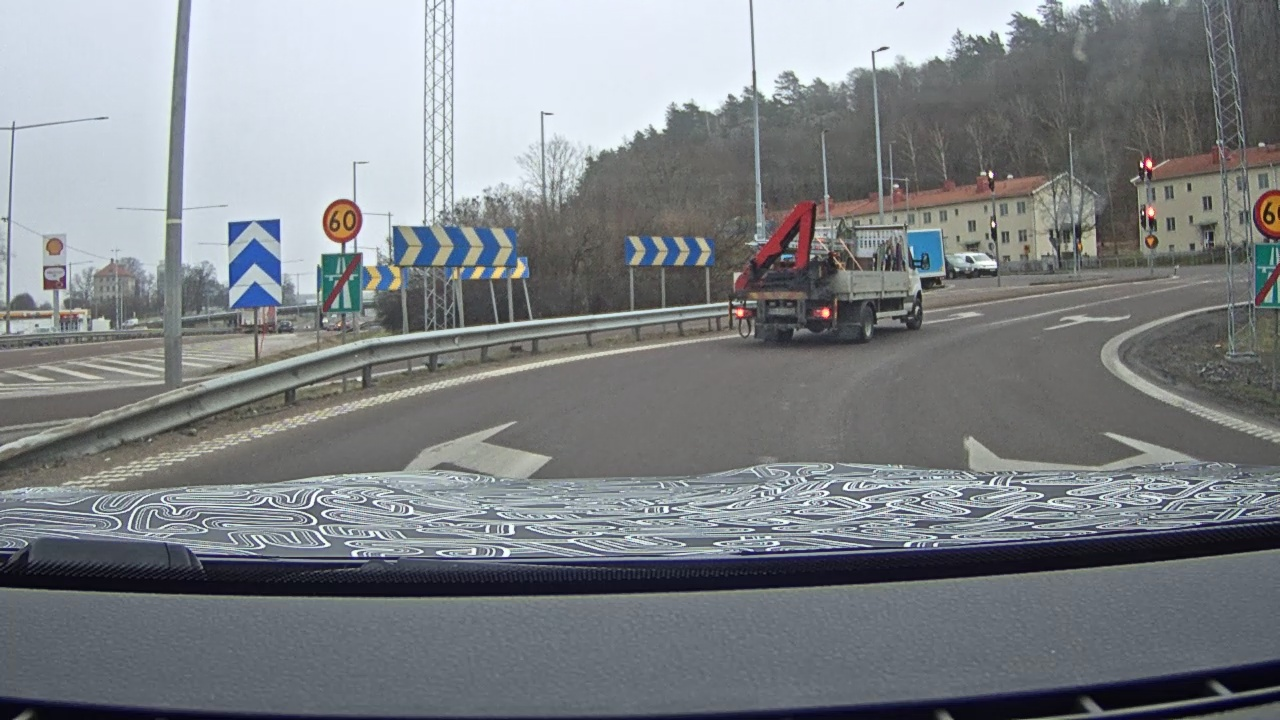Regular_End_Of_Motorway: (319, 252, 363, 313)
